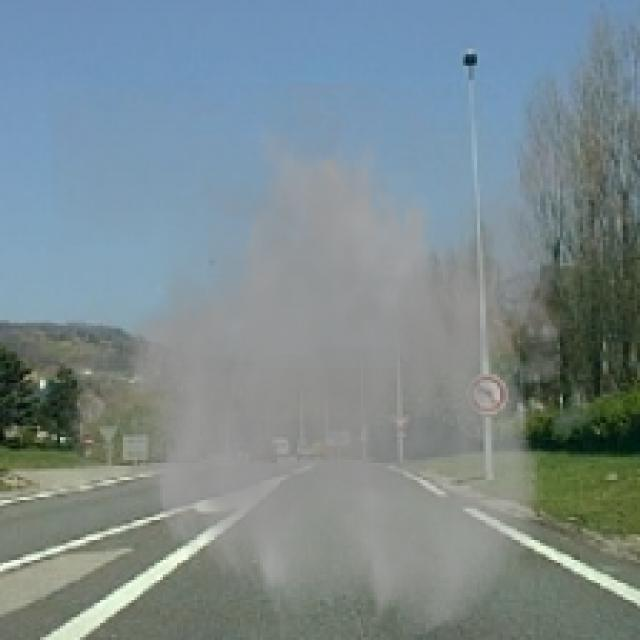Smoke: (51, 82, 606, 638)
